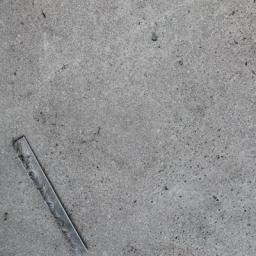FOD: (12, 134, 92, 256)
